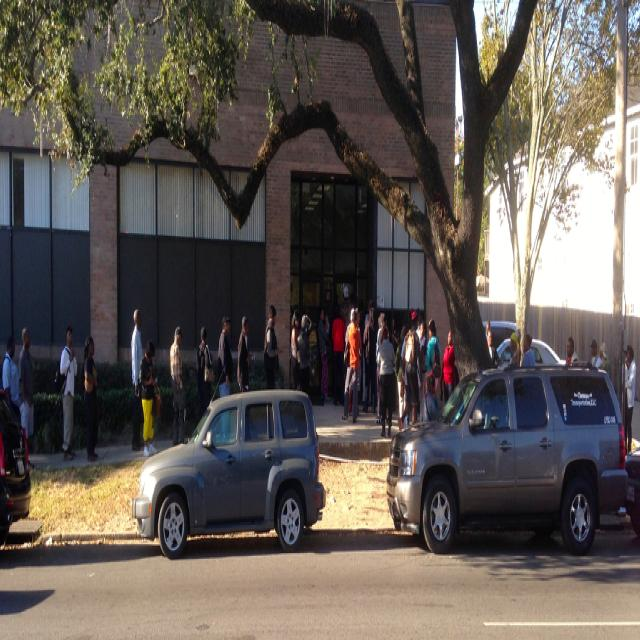car: (383, 356, 629, 549), (132, 373, 327, 552)
